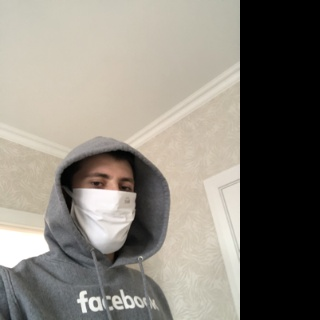with_mask: (72, 166, 137, 256)
